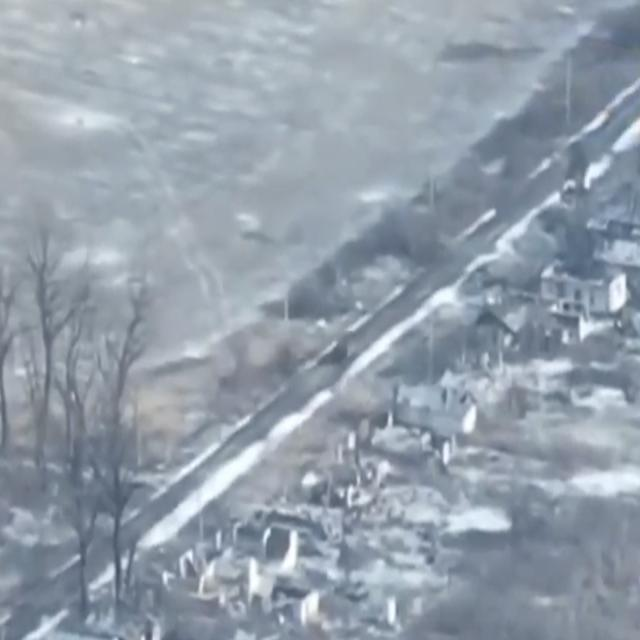vehicle: (318, 331, 358, 368)
